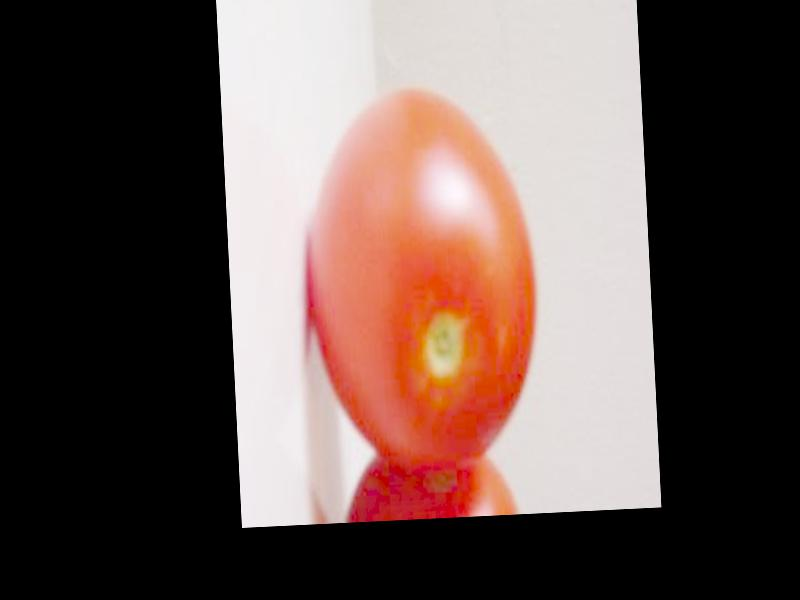Tomato: (300, 82, 544, 474)
